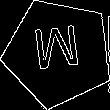M_S: (32, 25, 85, 81)
